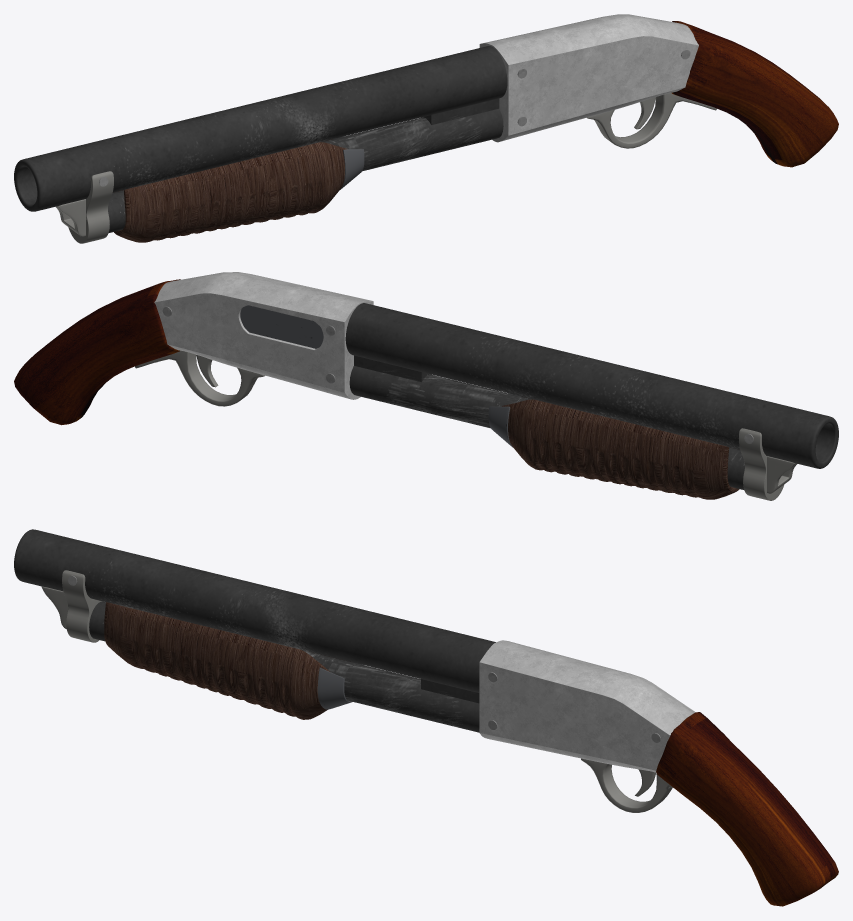
File: shotgun.glb
3 renders of one model, top to bottom at view 1: azimuth 30°, elevation 25°; view 2: azimuth 150°, elevation 25°; view 3: azimuth 330°, elevation 25°, orthographic.
Parts seen in each view (by area): view 1: Object_7, Object_3, Object_5, Object_4, Object_8, Object_2; view 2: Object_7, Object_3, Object_5, Object_4, Object_8, Object_6, Object_2; view 3: Object_7, Object_3, Object_4, Object_5, Object_8, Object_2.
Part boxes in pixels (<box>): Object_7: <box>14,46,507,232</box>; Object_3: <box>479,14,698,142</box>; Object_5: <box>114,139,347,242</box>; Object_4: <box>671,21,838,167</box>; Object_8: <box>55,93,716,243</box>; Object_2: <box>335,136,364,190</box>; Object_7: <box>345,303,838,489</box>; Object_3: <box>154,272,373,399</box>; Object_5: <box>502,396,739,499</box>; Object_4: <box>14,279,180,425</box>; Object_8: <box>135,350,797,500</box>; Object_6: <box>240,305,323,348</box>; Object_2: <box>488,394,521,447</box>; Object_7: <box>14,529,495,732</box>; Object_3: <box>479,640,695,772</box>; Object_4: <box>656,712,838,906</box>; Object_5: <box>104,602,350,719</box>; Object_8: <box>41,570,673,812</box>; Object_2: <box>317,662,362,709</box>.
Size of the model in its own units: 16.06 by 3.57 by 1.19.
9 materials, 9 textured.
